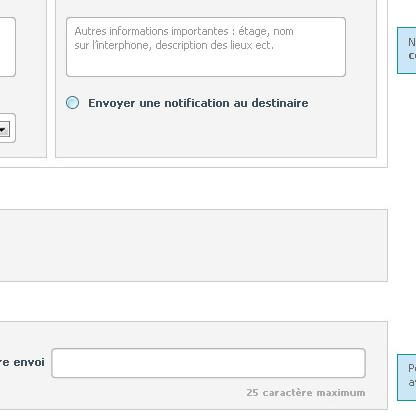field: (65, 15, 349, 78), (51, 346, 369, 380)
radio: (64, 94, 80, 111)
